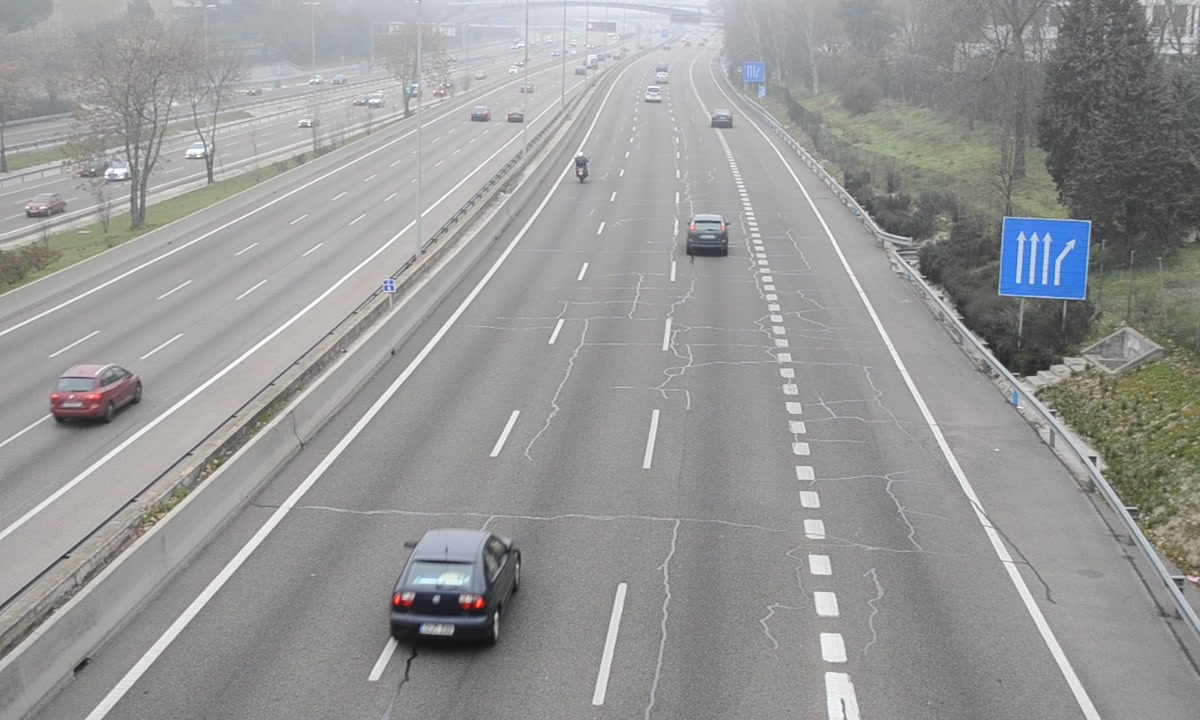car: (390, 530, 522, 651), (686, 213, 728, 258), (711, 109, 732, 129)
motorcycle: (574, 151, 591, 186)
